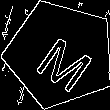M_NE: (25, 20, 95, 88)
